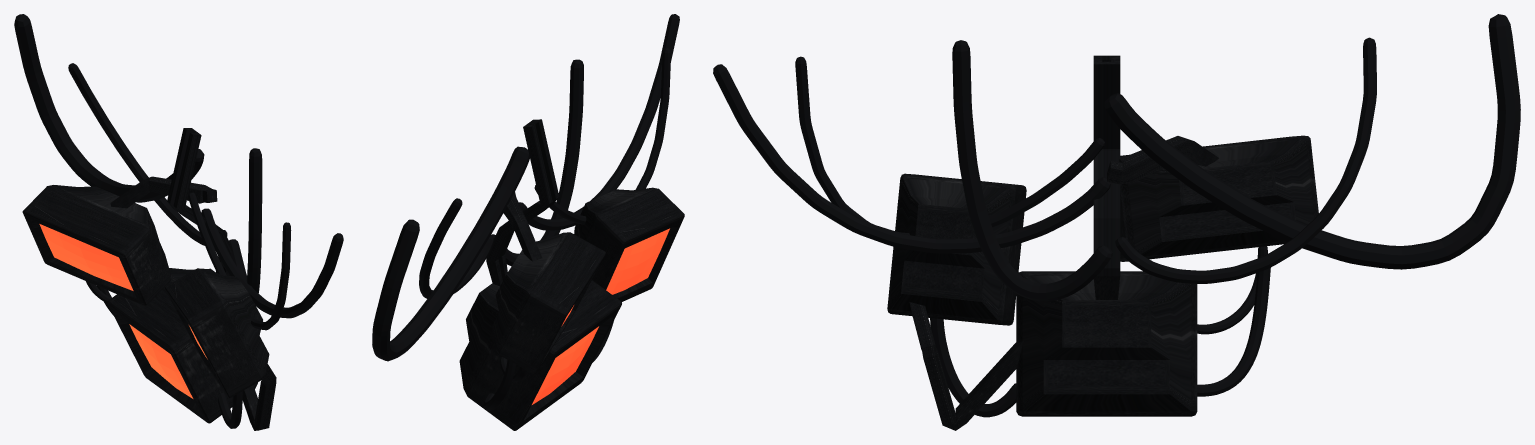
File: enemy.glb
3 renders of one model, left to right at view 1: azimuth 30°, elevation 25°; view 2: azimuth 150°, elevation 25°; view 3: azimuth 270°, elevation 25°, orthographic. The views are drawn at different scales.
Visible parts, largest first — view 1: TV.001, TVSIDE1, TV, BézierCurve.007, BézierCurve.005, BézierCurve.004, BézierCurve.006, Stand, BézierCurve.003, Cube, Cube.001, BézierCurve; view 2: TV, TV.001, TVSIDE1, BézierCurve.007, Stand, BézierCurve.005, BézierCurve.004, BézierCurve.003, BézierCurve.006, Cube, BézierCurve.002; view 3: TV, TV.001, BézierCurve.007, TVSIDE1, BézierCurve.005, BézierCurve.004, BézierCurve.006, Stand, Cube.001, BézierCurve.003, BézierCurve.002, Cube (+2 smaller).
Part boxes in pixels (x1,y1,x2,y2): TV.001: (22,185,170,305); TVSIDE1: (164,268,269,397); TV: (107,268,257,423); BézierCurve.007: (14,14,204,202); BézierCurve.005: (201,208,343,318); BézierCurve.004: (229,148,262,292); BézierCurve.006: (68,63,227,245); Stand: (167,128,232,275); BézierCurve.003: (188,192,291,330); Cube: (110,176,217,208); Cube.001: (242,364,276,430); BézierCurve: (218,391,242,428); TV: (459,280,621,430); TV.001: (491,232,605,374); TVSIDE1: (574,187,684,301); BézierCurve.007: (372,146,529,361); Stand: (486,119,559,286); BézierCurve.005: (518,14,679,230); BézierCurve.004: (491,59,583,266); BézierCurve.003: (534,47,670,224); BézierCurve.006: (419,198,493,298); Cube: (503,192,542,261); BézierCurve.002: (483,360,516,411); TV: (1016,271,1197,416); TV.001: (1120,135,1318,261); BézierCurve.007: (1104,14,1520,269); TVSIDE1: (887,173,1026,325); BézierCurve.005: (713,64,1110,253); BézierCurve.004: (952,40,1112,301); BézierCurve.006: (1115,37,1376,283); Stand: (1093,55,1120,299); Cube.001: (909,302,1023,430); BézierCurve.003: (795,56,1104,235); BézierCurve.002: (1197,256,1270,396); Cube: (1107,136,1218,184).
Bounding box in the file's own units: 7.97 × 14.61 × 27.26.
Materials: 2 (1 with a texture image).
